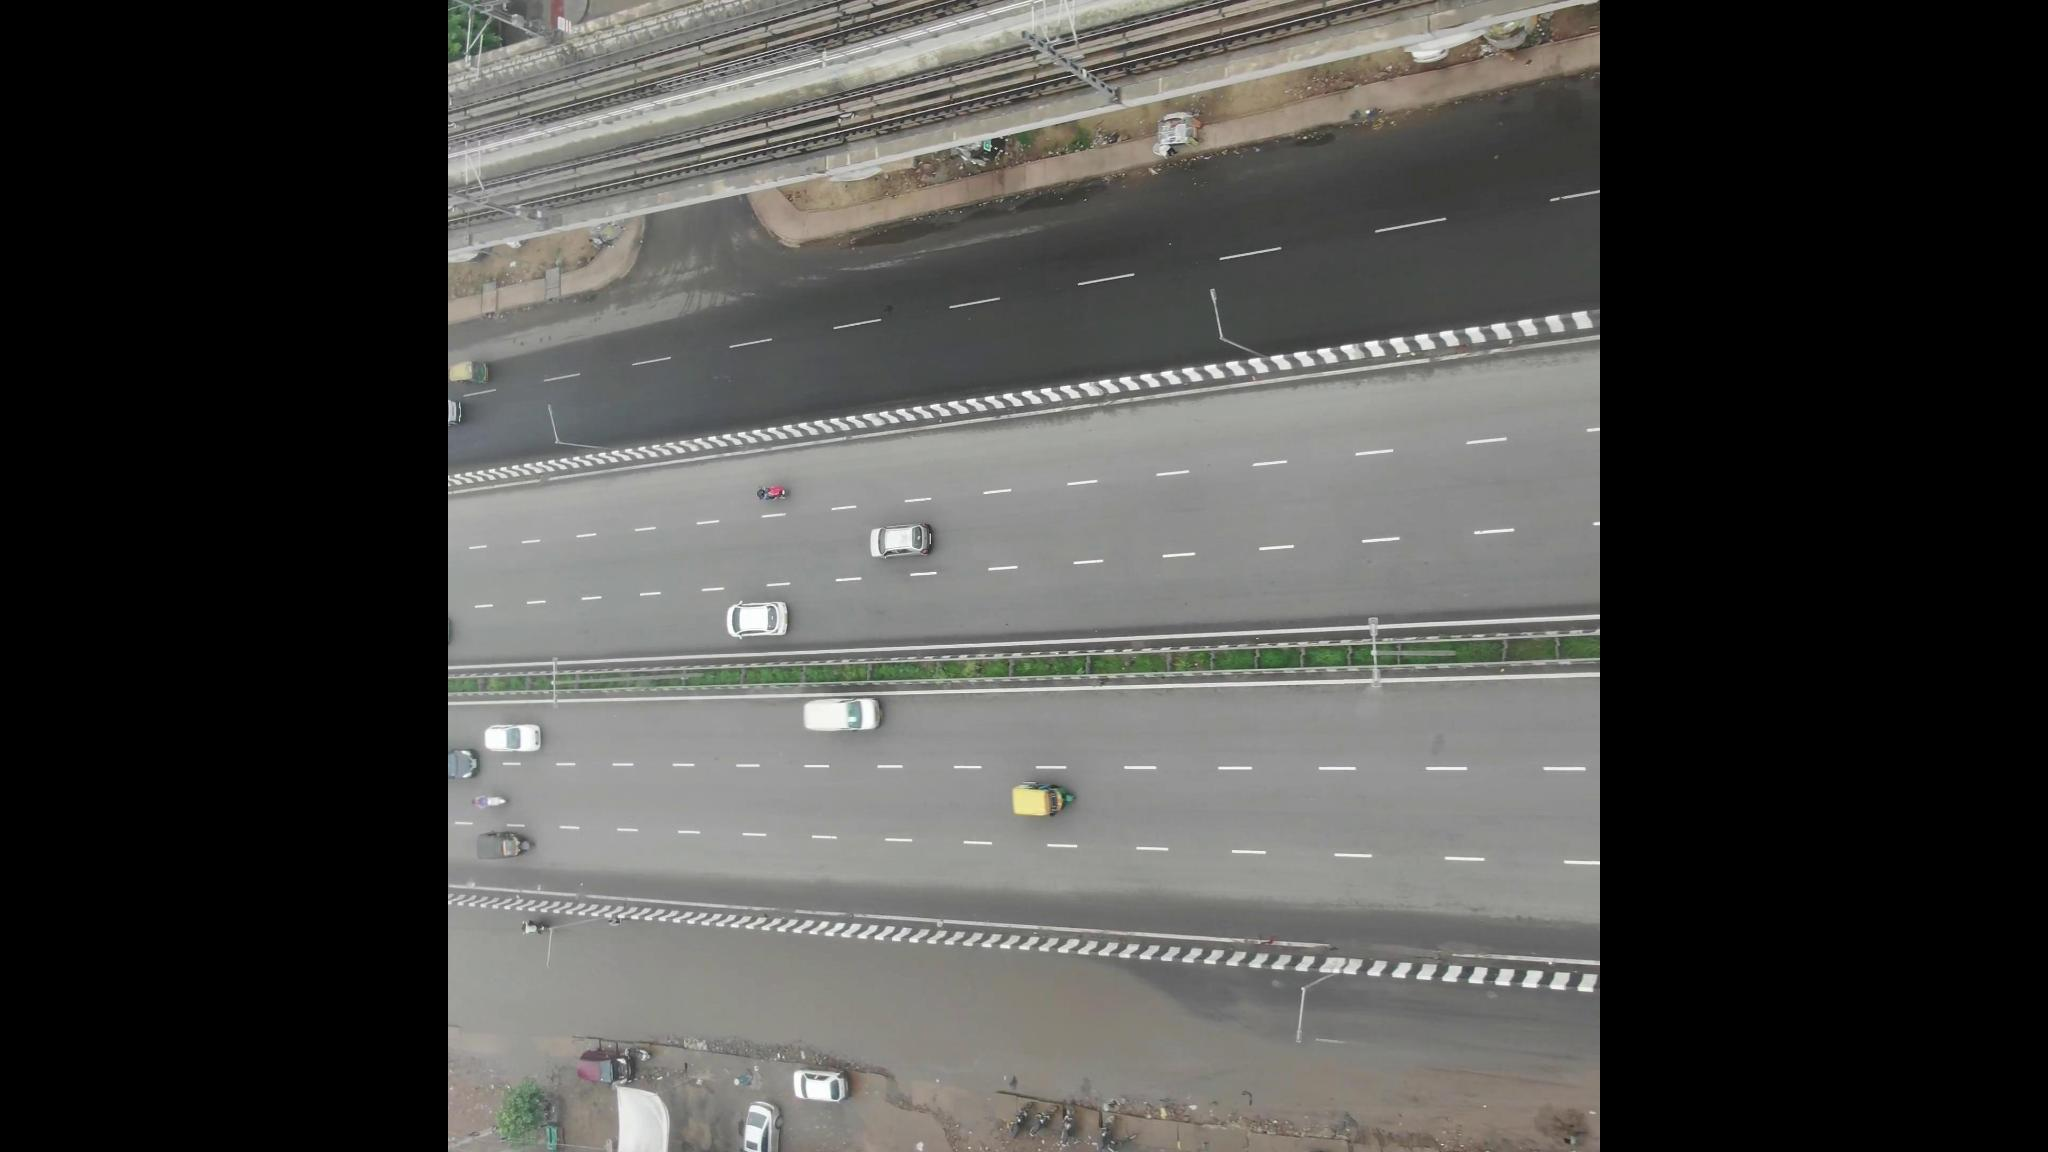Waterlogging: (919, 947, 1331, 1111), (492, 914, 906, 1038), (851, 165, 1106, 253)
